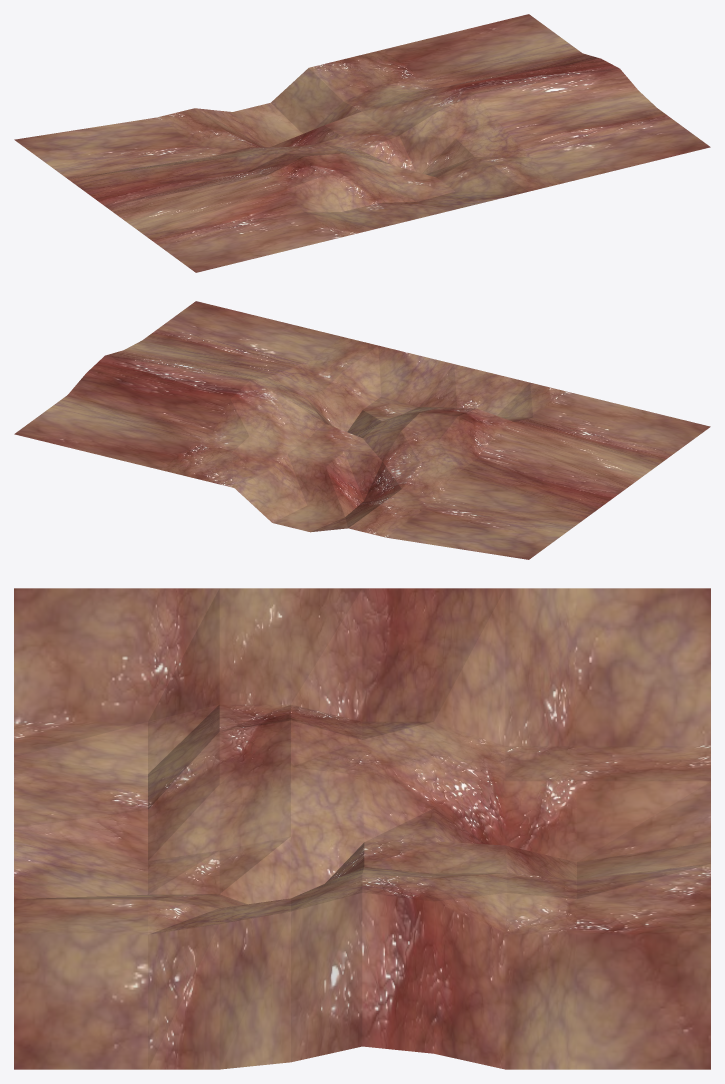
Rendered from liver.obj.
3 views of the same model, one above another, from view 1: azimuth 30°, elevation 25°; view 2: azimuth 150°, elevation 25°; view 3: azimuth 270°, elevation 25° (orthographic). The views are drawn at different scales.
Parts seen in each view (by area): view 1: Plane001; view 2: Plane001; view 3: Plane001.
Boxes of the visible parts, box(x1,y1,x2,y2) form: Plane001: box(14, 14, 710, 272); Plane001: box(14, 301, 710, 559); Plane001: box(14, 588, 710, 1069).
Bounding box in the file's own units: 6.86 × 0.7397 × 4.2.
1 material, 1 textured.
